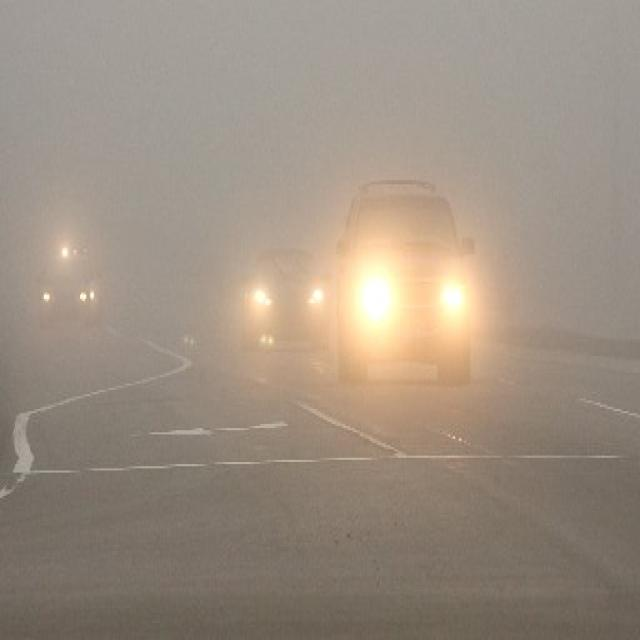car: (334, 180, 475, 390), (238, 246, 330, 360), (36, 256, 89, 320), (85, 238, 100, 326)
